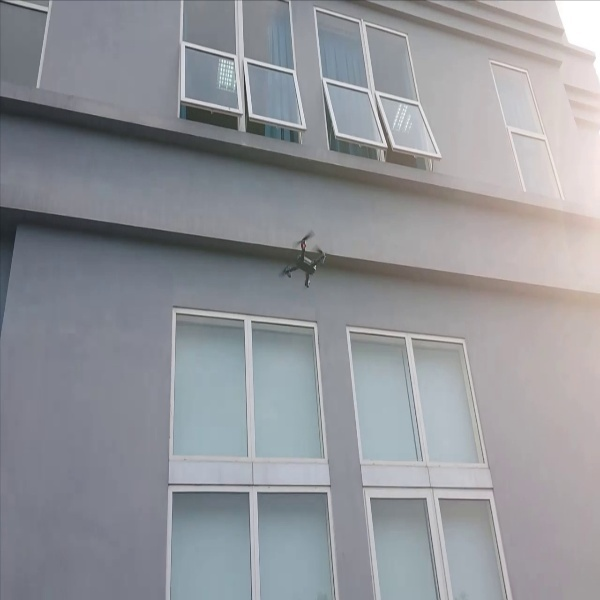drone: (274, 223, 329, 294)
